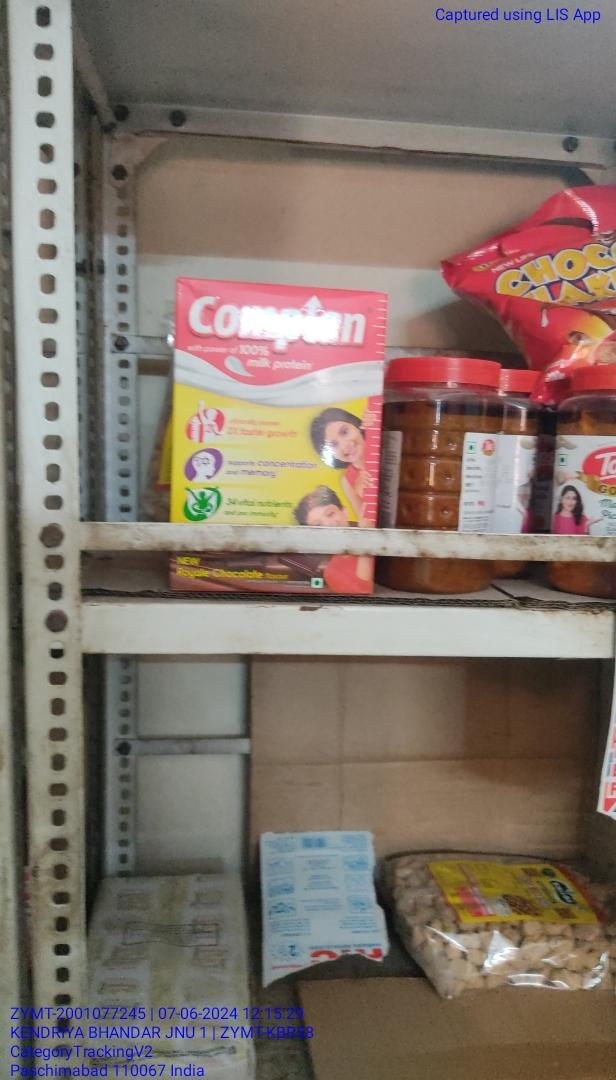COMPLAN_CHOCOLATE_500_GMS_PACK: (170, 275, 373, 596)
